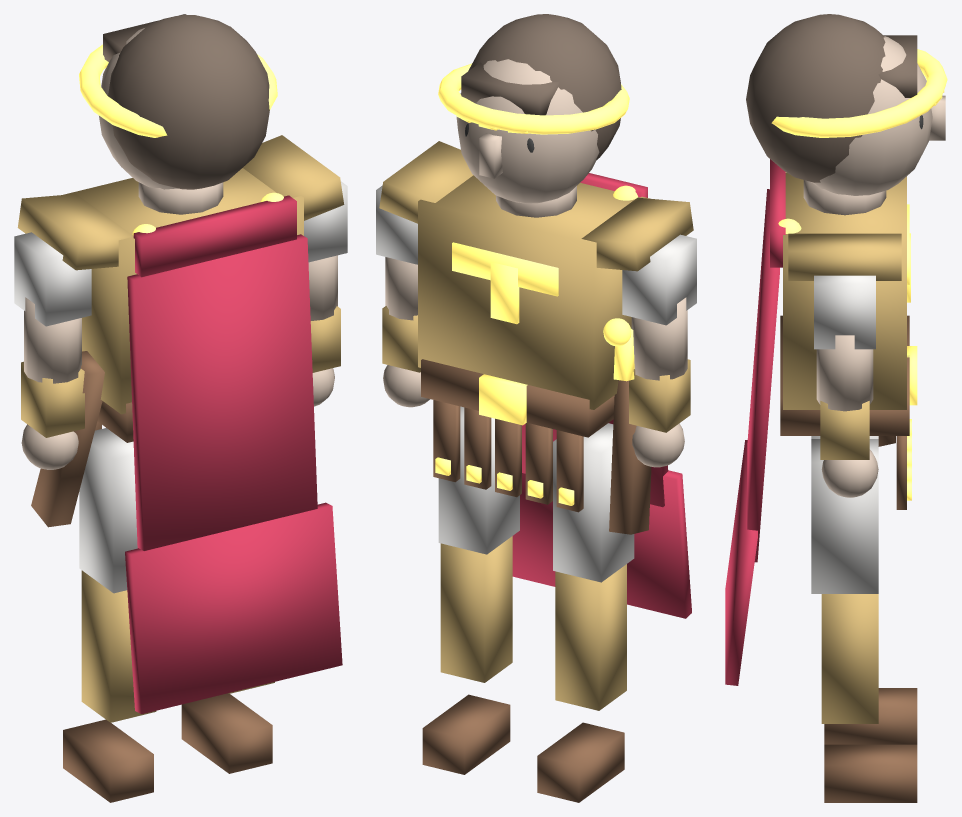
File: caesar.glb
3 views of the same model, side by side, from view 1: azimuth 30°, elevation 25°; view 2: azimuth 150°, elevation 25°; view 3: azimuth 270°, elevation 25° (orthographic). The views are drawn at different scales.
Visible parts, largest first — view 1: Cape, Head, Torso, LeftLeg, LeftArm, RightArm, RightLeg, Gladius; view 2: Torso, Head, LeftLeg, RightLeg, LeftArm, Cape, RightArm, Gladius; view 3: Head, Torso, RightLeg, RightArm, Cape, LeftLeg.
Boxes of the visible parts, box(x1,y1,x2,y2) form: Cape: box(125, 192, 342, 714); Head: box(79, 14, 277, 189); Torso: box(17, 135, 344, 442); LeftLeg: box(63, 428, 156, 802); LeftArm: box(14, 232, 91, 469); RightArm: box(304, 181, 347, 406); RightLeg: box(181, 682, 274, 773); Gladius: box(31, 351, 104, 527); Torso: box(379, 141, 693, 512); Head: box(438, 14, 629, 203); LeftLeg: box(537, 423, 634, 802); RightLeg: box(422, 406, 519, 774); LeftArm: box(622, 234, 696, 467); Cape: box(512, 173, 691, 618); RightArm: box(376, 185, 429, 407); Gladius: box(603, 318, 651, 534); Head: box(746, 14, 947, 195); Torso: box(780, 172, 917, 509); RightLeg: box(811, 439, 917, 802); RightArm: box(814, 275, 878, 497); Cape: box(725, 159, 801, 685); LeftLeg: box(811, 436, 917, 744).
Bounding box in the file's own units: 0.67 × 1.59 × 0.4302.
